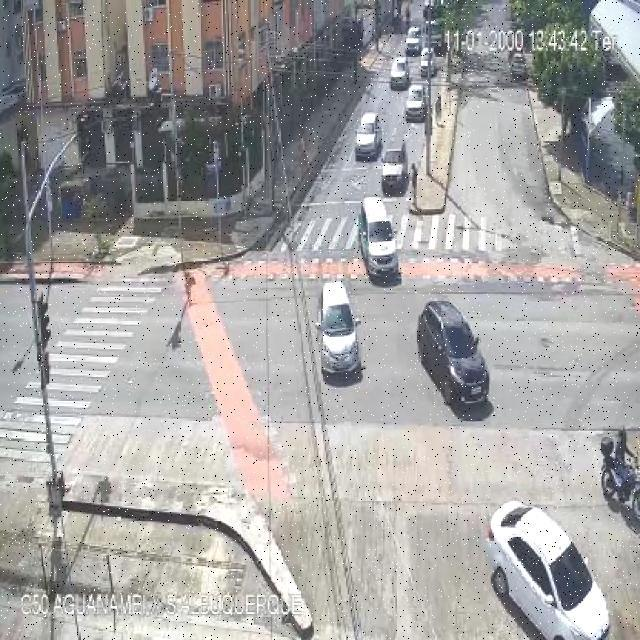Car: (475, 495, 607, 640), (421, 298, 498, 417), (314, 282, 369, 388), (372, 133, 420, 194), (350, 109, 382, 163), (401, 79, 434, 120), (386, 56, 410, 89), (418, 44, 436, 81), (404, 25, 421, 54)
Cycle: (593, 406, 639, 526)
Van: (348, 199, 406, 283)
